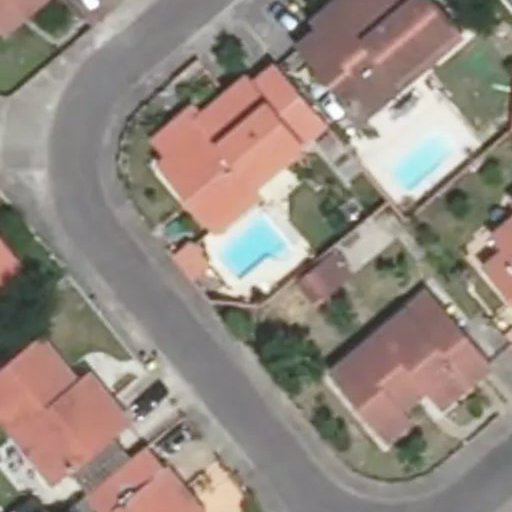pool: (212, 218, 291, 280), (386, 128, 462, 191)
